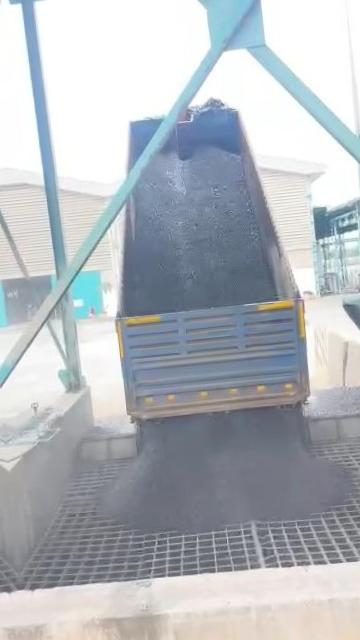gravel: (102, 408, 351, 533), (125, 146, 275, 310), (305, 384, 360, 420)
